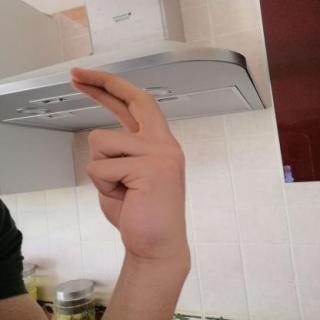ZAY: (58, 60, 200, 268)
